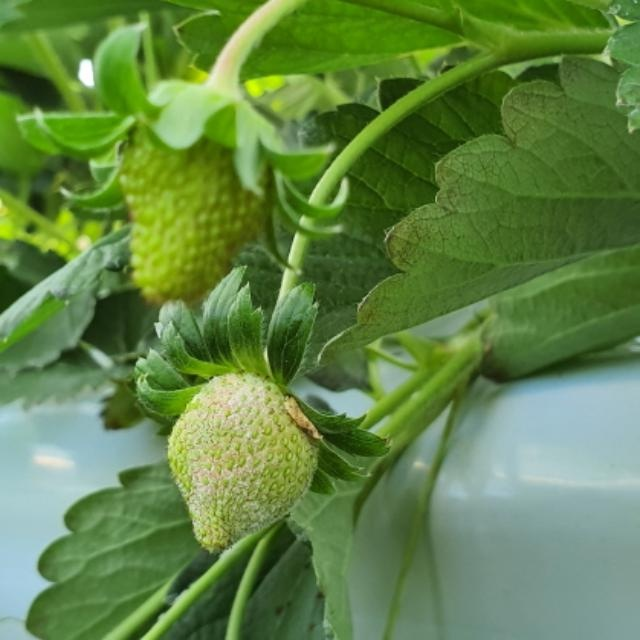Powdery Mildew Fruit: (168, 365, 318, 554)
